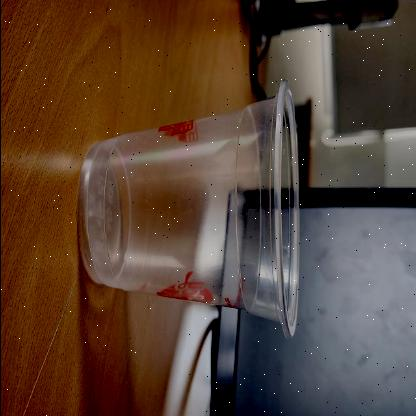Others: (75, 82, 300, 336)
